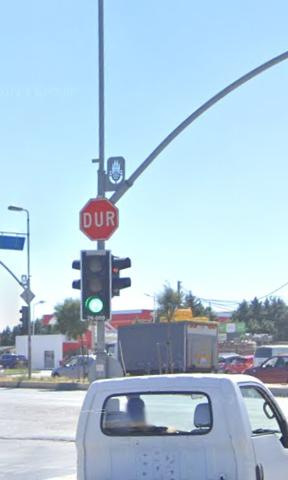greenlight: (77, 247, 118, 325)
stop: (77, 196, 121, 243)
